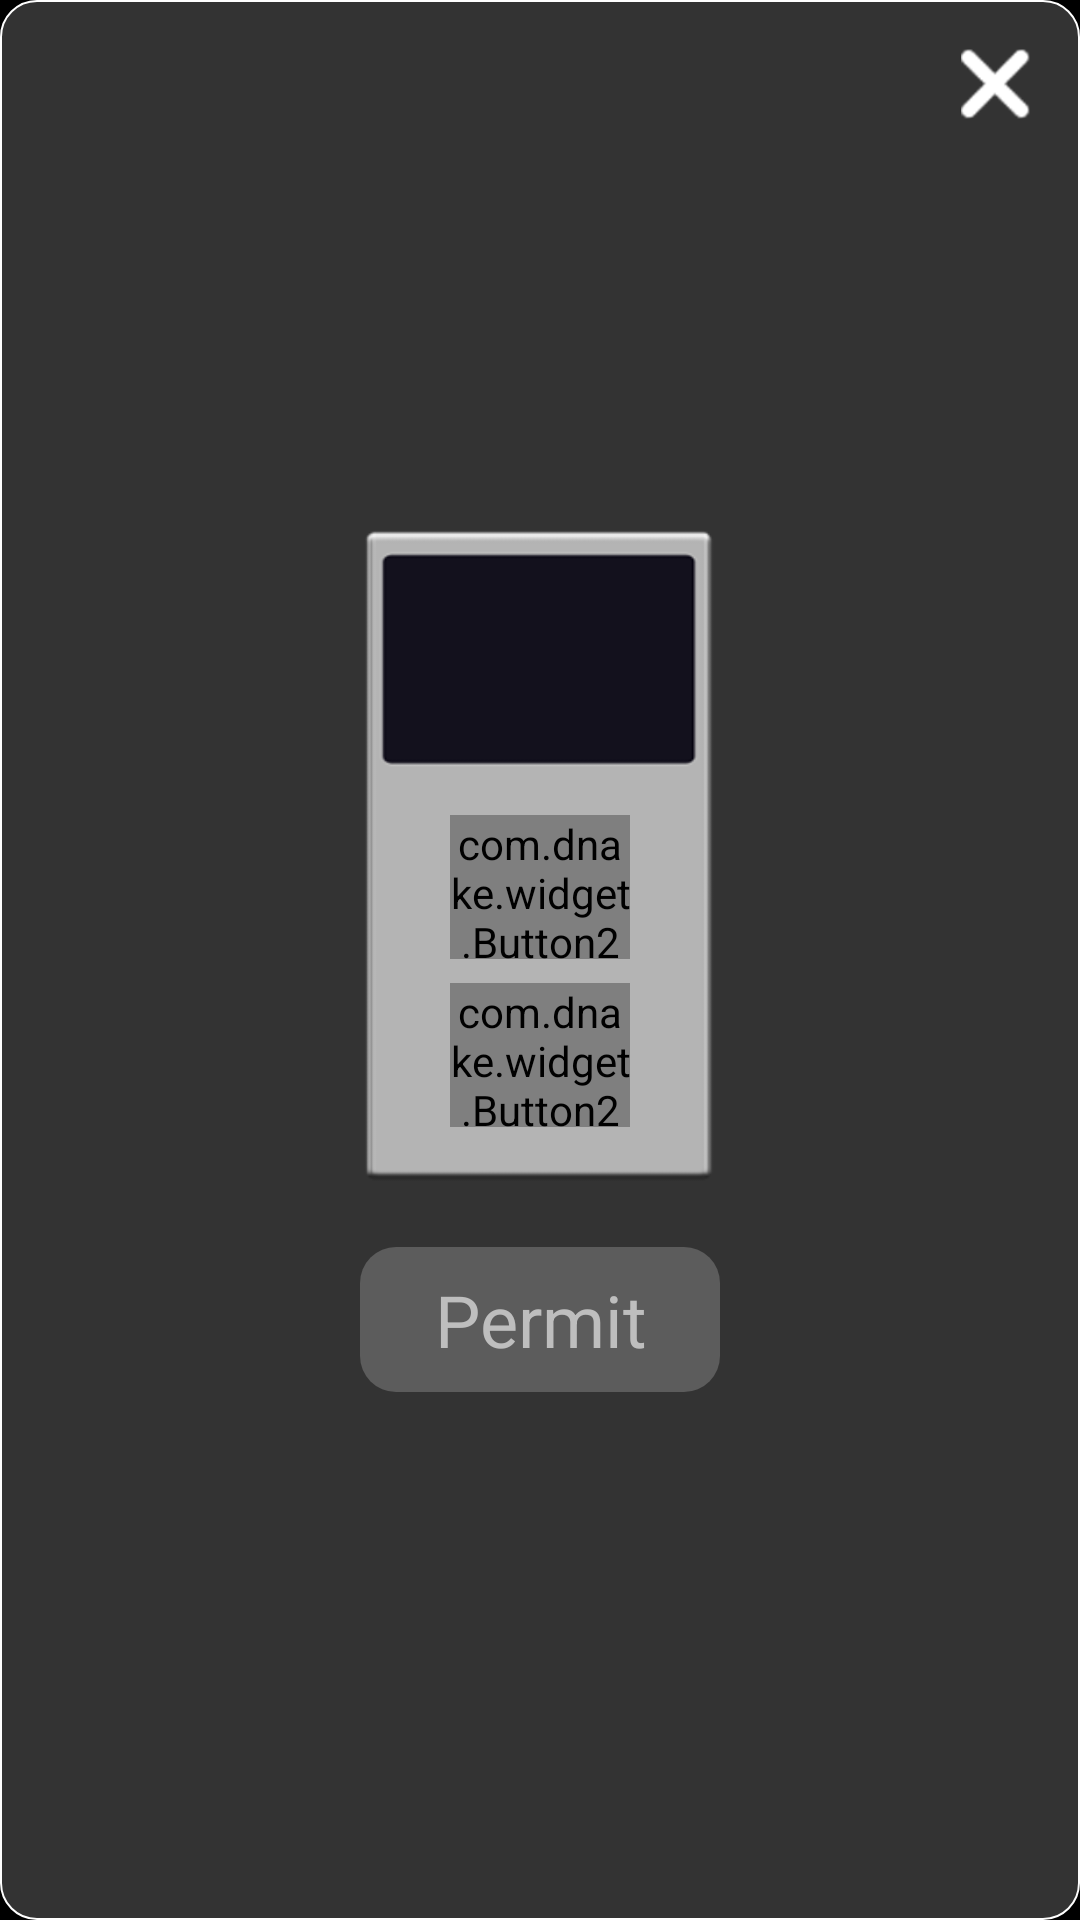

Named icons in this screenshot (1080 × 1920) and their centers, point (x, y):
close: point (995, 84)
